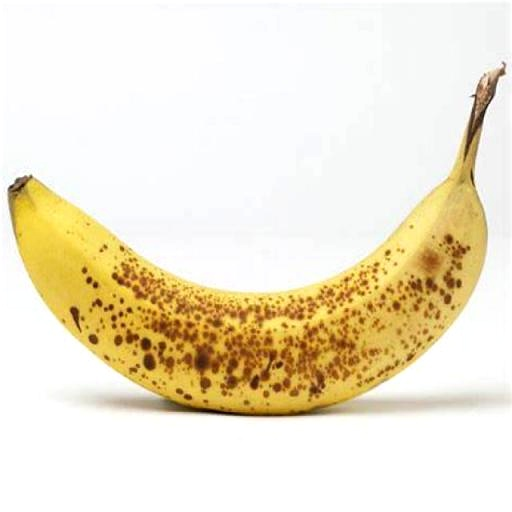fruit: (8, 65, 503, 413)
